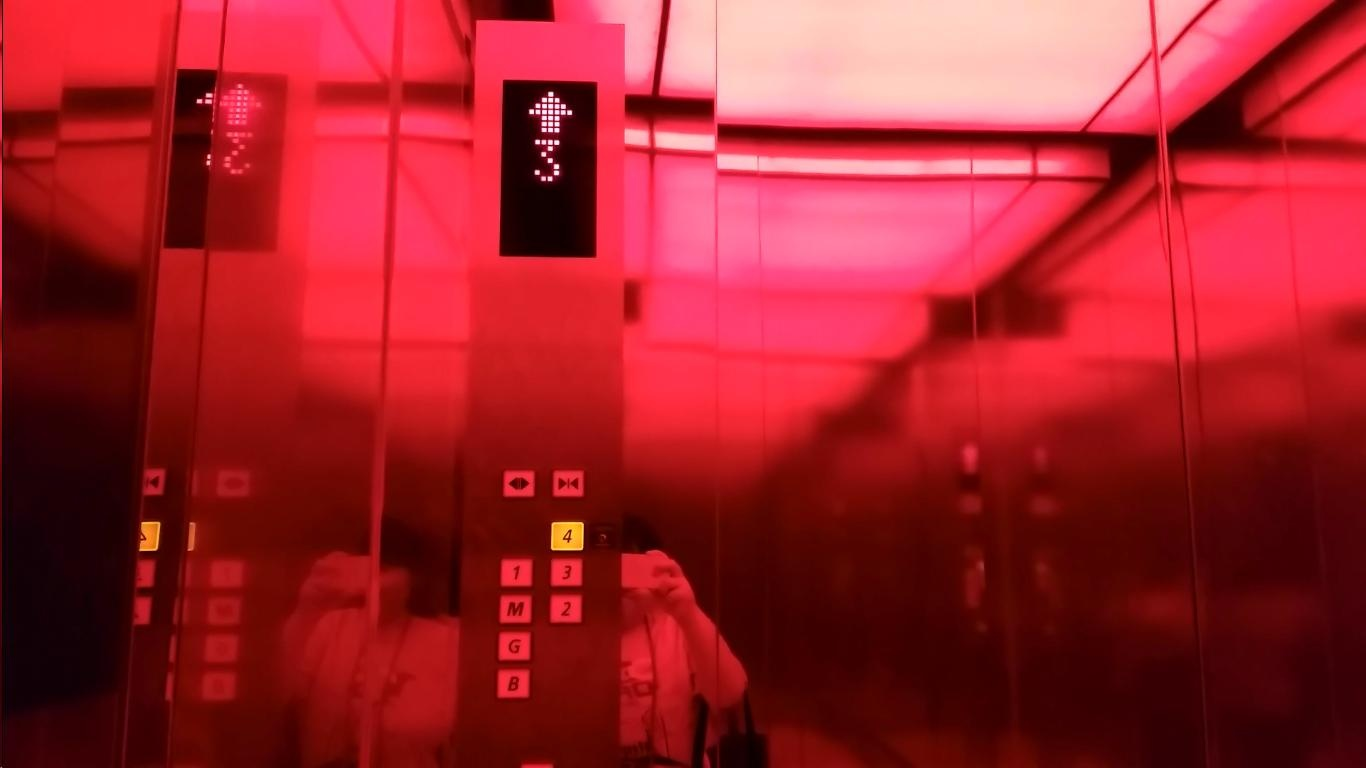1: (495, 554, 536, 591)
2: (547, 592, 583, 625)
3: (547, 557, 584, 587)
4: (548, 519, 586, 553)
B: (495, 666, 532, 700)
G: (494, 628, 532, 664)
M: (495, 591, 534, 626)
close: (549, 467, 585, 499)
led: (498, 76, 600, 263)
open: (499, 467, 536, 500)
unknown: (201, 631, 239, 666), (207, 557, 247, 589), (213, 467, 251, 500), (200, 670, 238, 703), (205, 594, 243, 625)
